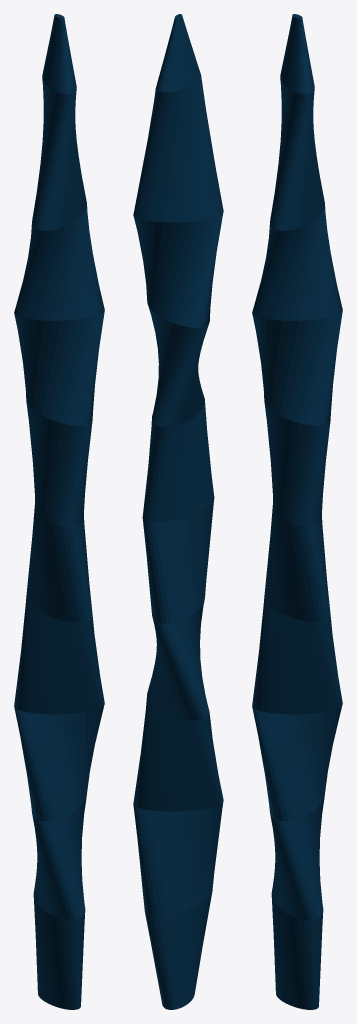
The model's file is dried_vine.glb.
The picture shows the model from 3 angles, left to right: view 1: azimuth 90°, elevation 25°; view 2: azimuth 210°, elevation 25°; view 3: azimuth 270°, elevation 25°; orthographic projection.
Visible parts, largest first — view 1: dried_vine; view 2: dried_vine; view 3: dried_vine.
Boxes of the visible parts, x1,y1,x2,y2 form: dried_vine: (14, 14, 104, 1009); dried_vine: (133, 14, 223, 1009); dried_vine: (252, 14, 342, 1009).
Bounding box in the file's own units: 0.2397 × 2.94 × 0.2456.
